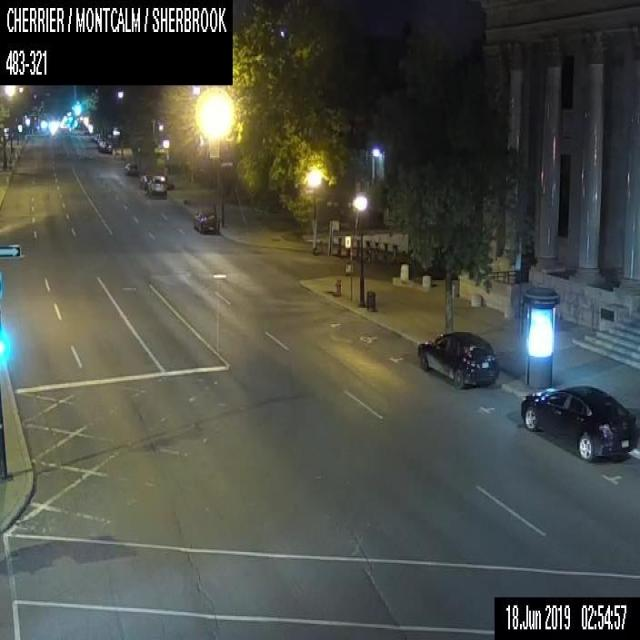vehicle: (521, 384, 639, 461), (416, 330, 498, 388), (194, 211, 220, 234), (146, 174, 167, 195), (123, 161, 137, 175), (98, 138, 111, 153), (139, 174, 147, 189)
